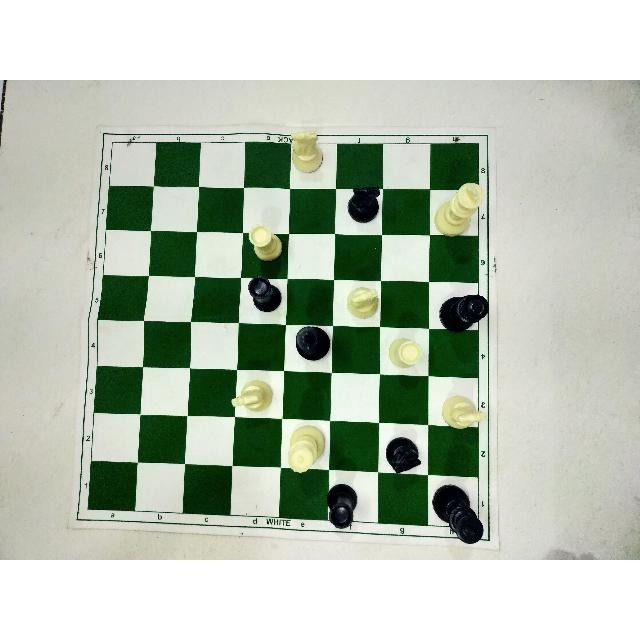black-king: (431, 483, 483, 545), (294, 325, 329, 361)
black-knight: (384, 437, 421, 477), (347, 184, 380, 224)
black-queen: (438, 294, 489, 334)
black-rook: (247, 274, 283, 313), (326, 484, 357, 528)
white-king: (434, 181, 486, 237)
white-knight: (440, 394, 487, 432), (289, 129, 322, 173), (230, 379, 274, 412), (347, 287, 379, 319)
white-queen: (286, 424, 325, 476)
white-rook: (248, 223, 284, 263), (387, 336, 422, 367)
